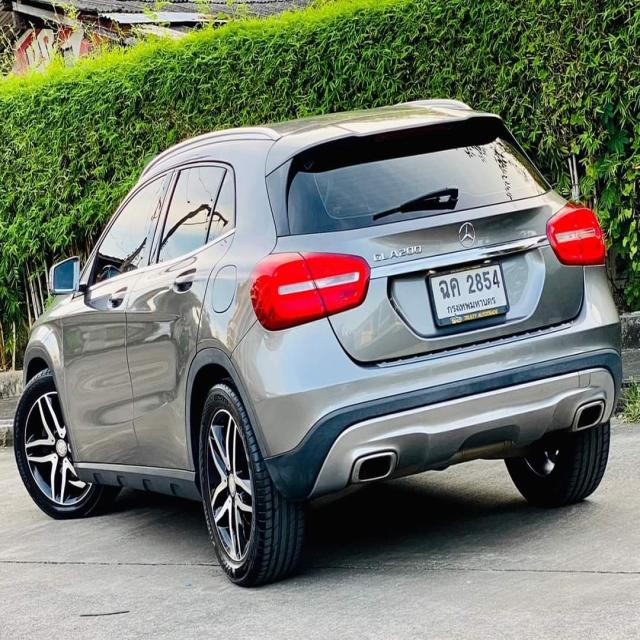license_plate: (424, 260, 511, 334)
